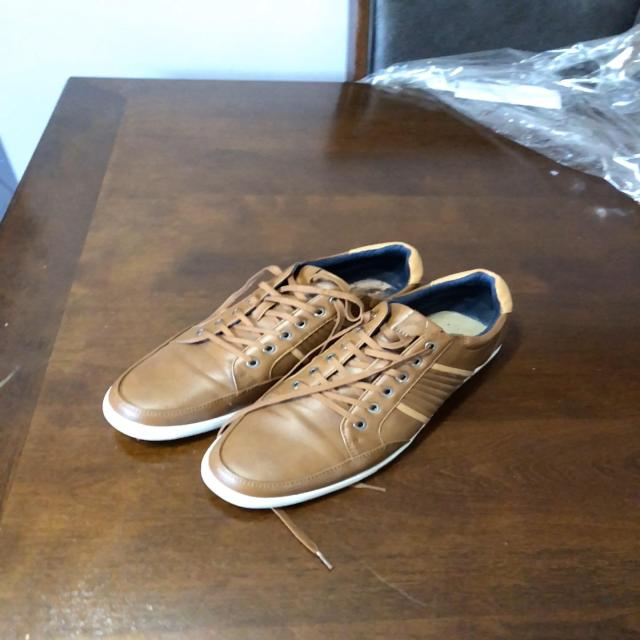shoe: (199, 273, 514, 514), (101, 244, 433, 445)
